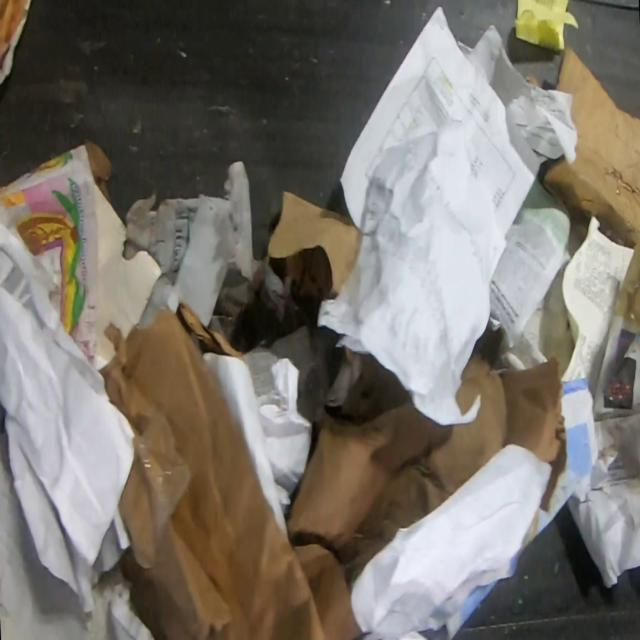cardboard: (97, 300, 566, 640), (0, 135, 164, 369), (543, 44, 640, 328)
